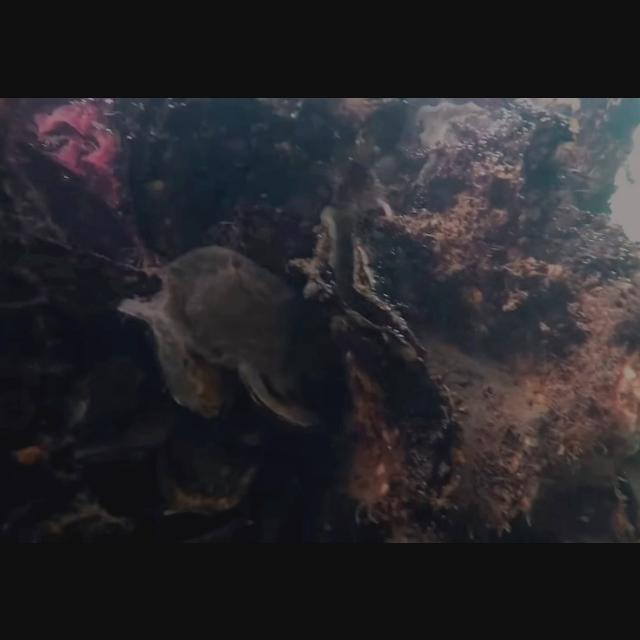Oyster-Closed: (160, 243, 338, 429)
Oyster-Open: (290, 204, 430, 370)
